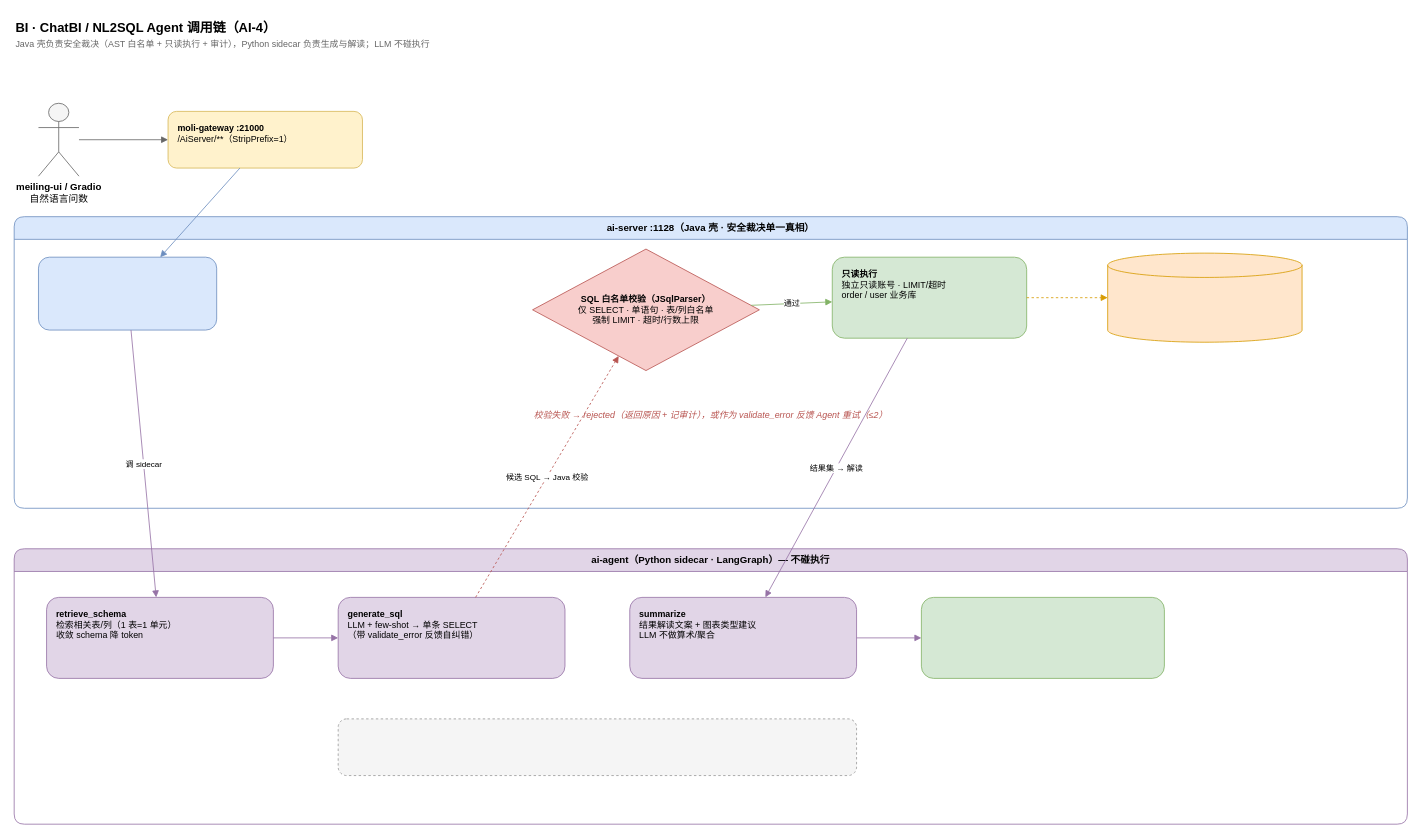
This 1422x838 diagram has some shape labels left out. The shapes that lost their labels are listed below. From the top down, each one's centre as x and y in pixels, then its label:
At pixel 127 293: "Shiro 校验 session（user-center 签发） ai:chat:query".
At pixel 1204 297: "ai_chat_trace 审计 NL · final_sql · status reject_reason · latency · retry".
At pixel 1042 637: "返回 { sql, rows, chart, explanation, traceId }".
At pixel 597 747: "LLM（OpenAI 兼容） 平台配置 DB 优先 + yaml 兜底 + 调用日志".
